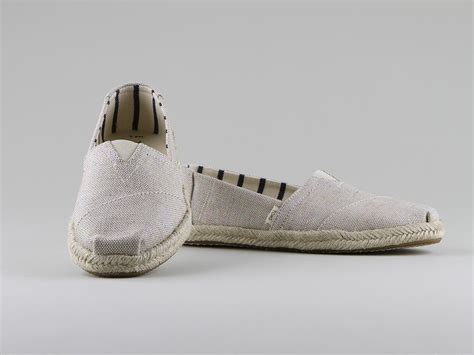nylon: (72, 83, 442, 253)
